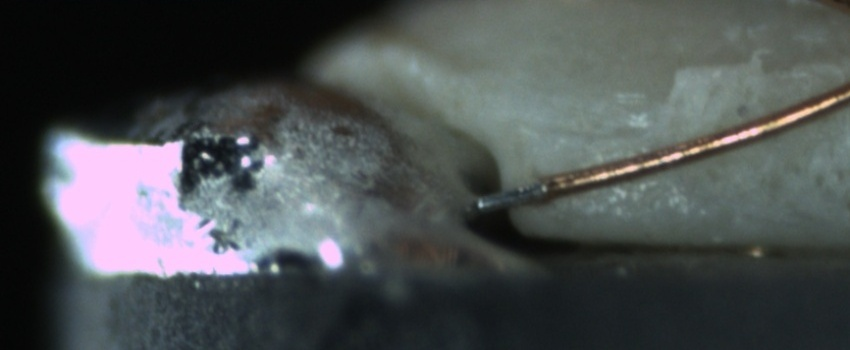DL: (526, 98, 663, 161)
TS: (479, 180, 549, 211)
